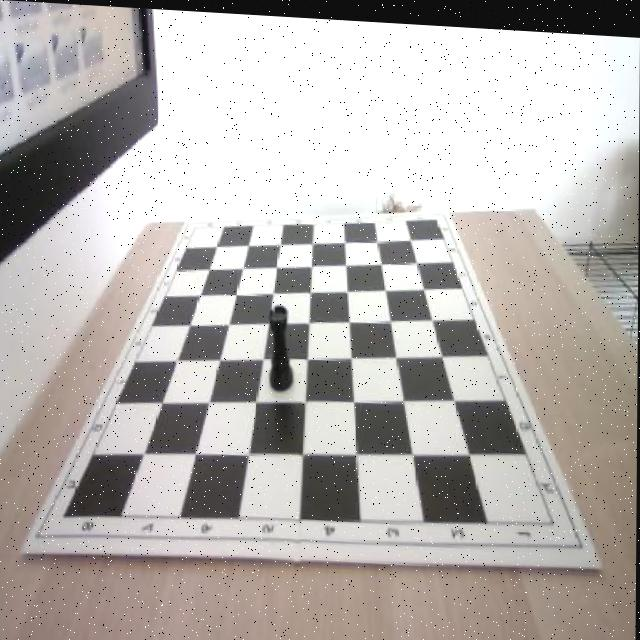black-queen: (267, 299, 295, 390)
